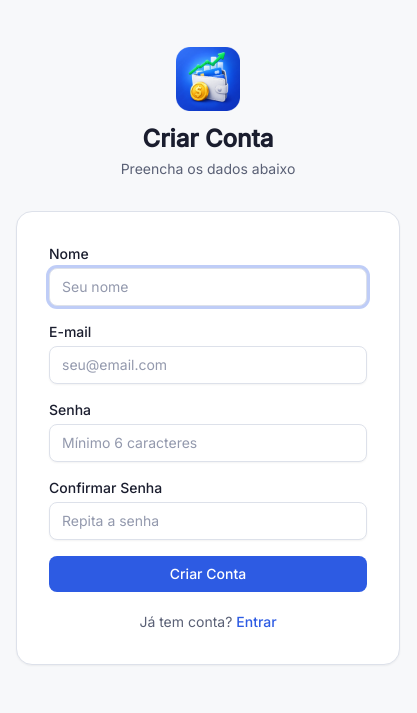
Test: Register › resposta sem sucesso mostra a mensagem do backend
The image size is (417, 713).
Type "Ana" into the field labelled "Nome".
click(208, 287); type("Ana")  # box [49,268,367,306]
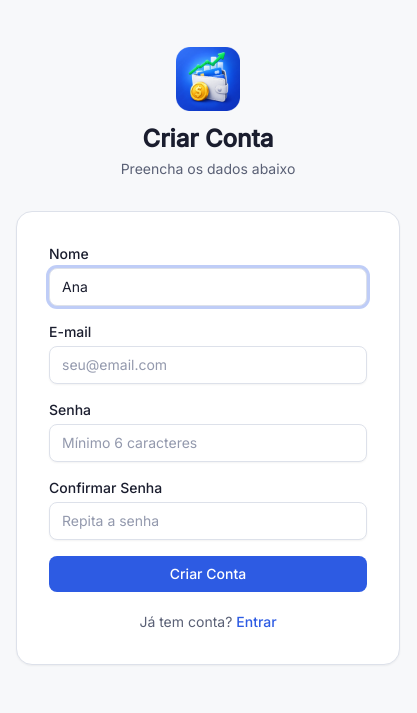
Type "ana@exemplo.com" into the field labelled "E-mail".
click(208, 365); type("ana@exemplo.com")  # box [49,346,367,384]
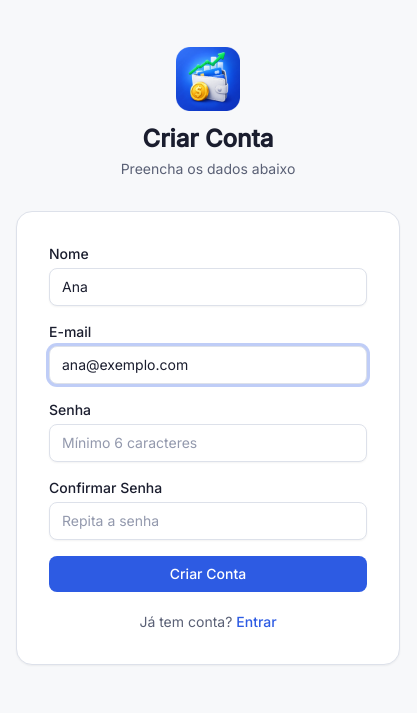
Type "segredo1" into the password field labelled "Senha".
click(208, 443); type("segredo1")  # box [49,424,367,462]
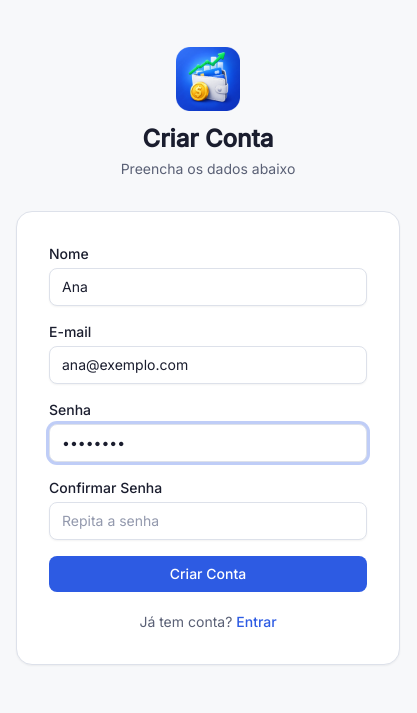
Type "segredo1" into the password field labelled "Confirmar Senha".
click(208, 521); type("segredo1")  # box [49,502,367,540]
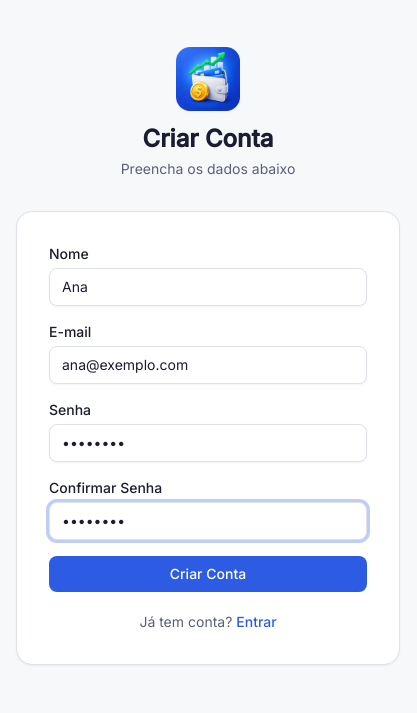
Click the button "Criar Conta".
click(208, 574)  # box [49,556,367,592]
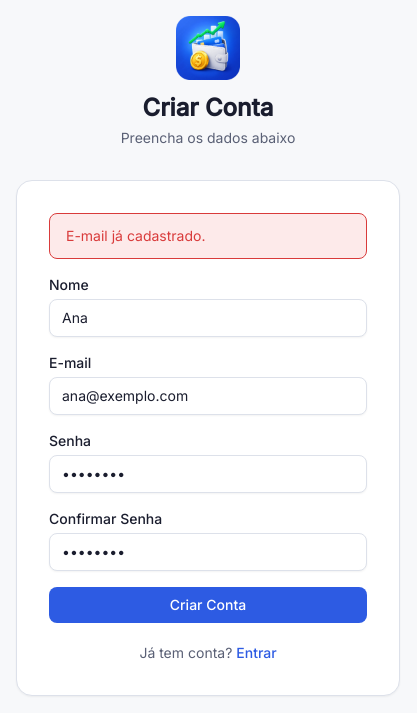
Expected: the text "E-mail já cadastrado." is shown, [49,213,367,259]
